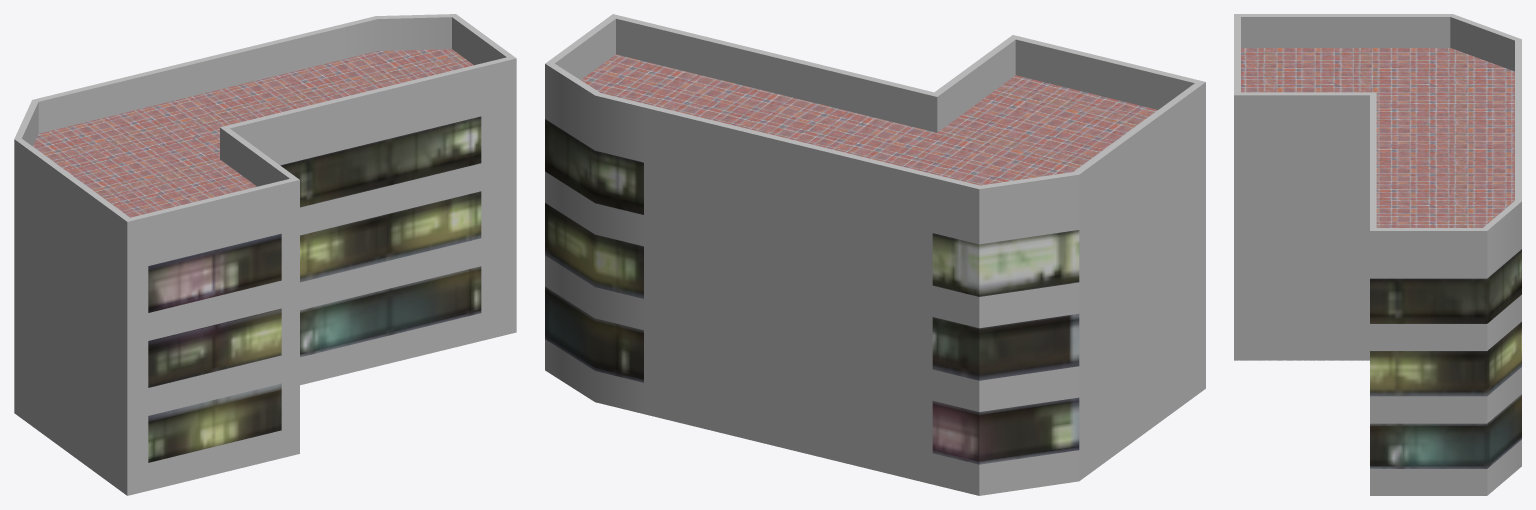
File: hirise_parts04_3f.fbx
3 views of the same model, side by side, from view 1: azimuth 30°, elevation 25°; view 2: azimuth 150°, elevation 25°; view 3: azimuth 270°, elevation 25° (orthographic). The views are drawn at different scales.
Parts seen in each view (by area): view 1: hirise_parts04_3f; view 2: hirise_parts04_3f; view 3: hirise_parts04_3f.
Part boxes in pixels (left/top/right/bottom): hirise_parts04_3f: left=14, top=14, right=516, bottom=495; hirise_parts04_3f: left=545, top=14, right=1205, bottom=495; hirise_parts04_3f: left=1234, top=14, right=1521, bottom=495.
Size of the model in its own units: 19.87 by 11.33 by 11.15.
